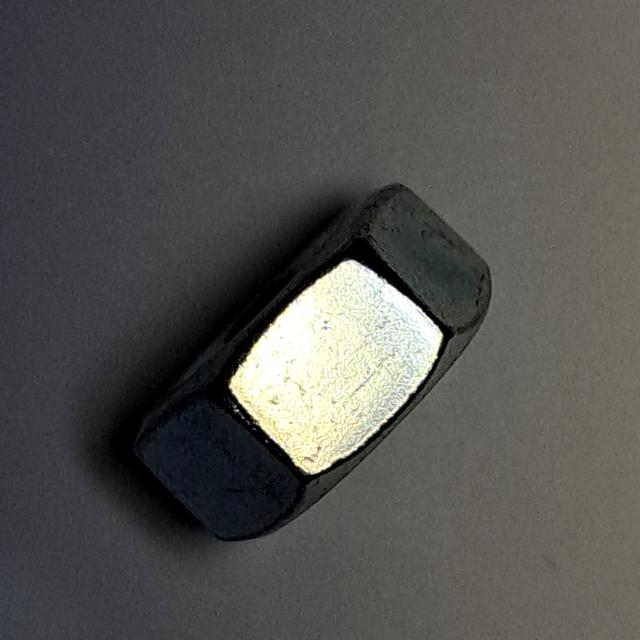Side_Excellent: (120, 170, 504, 553)
